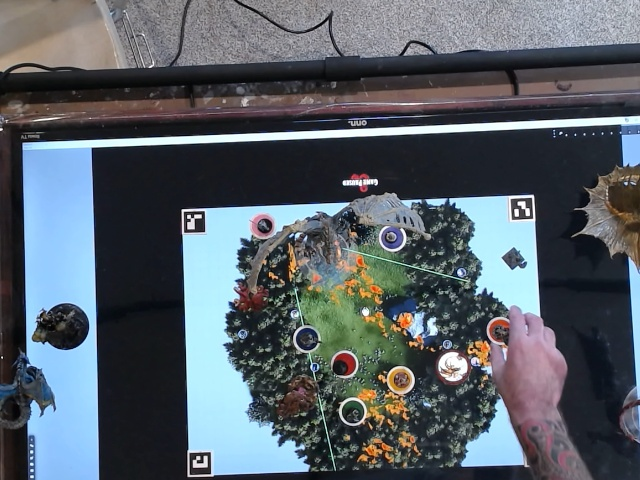blue: (286, 322, 326, 355)
green: (333, 391, 370, 428)
orange: (479, 312, 516, 350)
pink: (248, 212, 274, 241)
red: (327, 349, 362, 379)
violet: (375, 222, 411, 253)
yellow: (384, 364, 417, 396)
